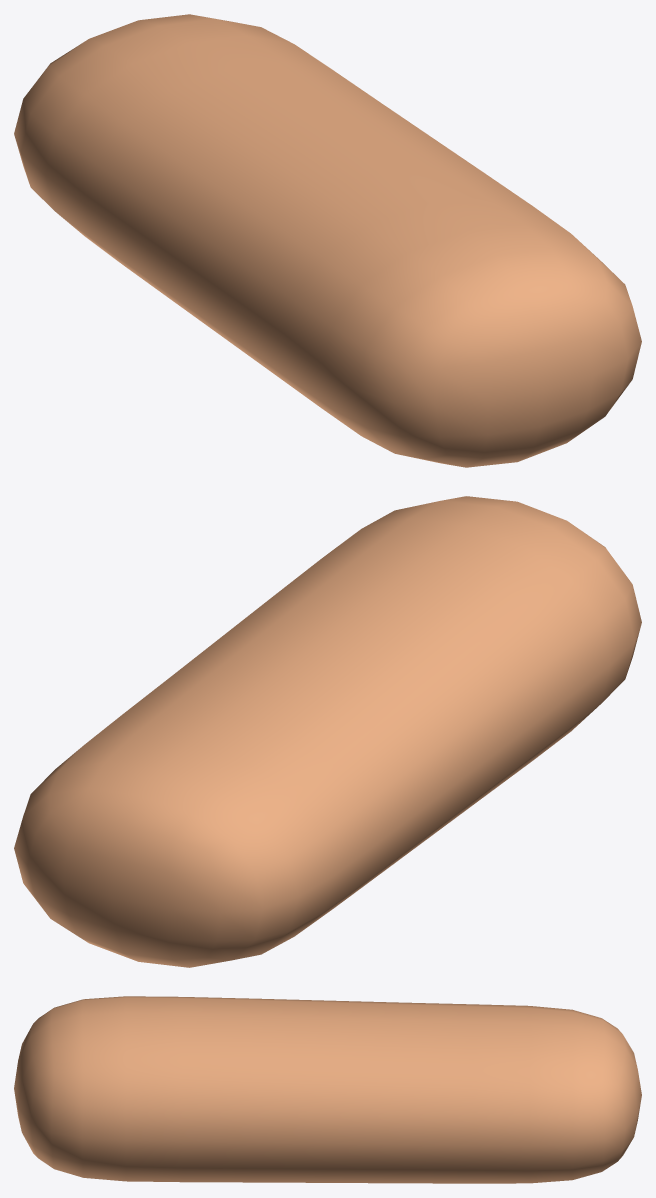
Rendered from LegThatIsPoop.fbx.
3 renders of one model, top to bottom at view 1: azimuth 30°, elevation 25°; view 2: azimuth 150°, elevation 25°; view 3: azimuth 270°, elevation 25°, orthographic. The views are drawn at different scales.
Parts seen in each view (by area): view 1: DumbLeg; view 2: DumbLeg; view 3: DumbLeg.
Boxes of the visible parts, bbox=[...] form: DumbLeg: bbox=[14, 14, 641, 467]; DumbLeg: bbox=[14, 496, 641, 967]; DumbLeg: bbox=[14, 996, 641, 1183].
Size of the model in its own units: 13.39 by 9.24 by 34.41.
